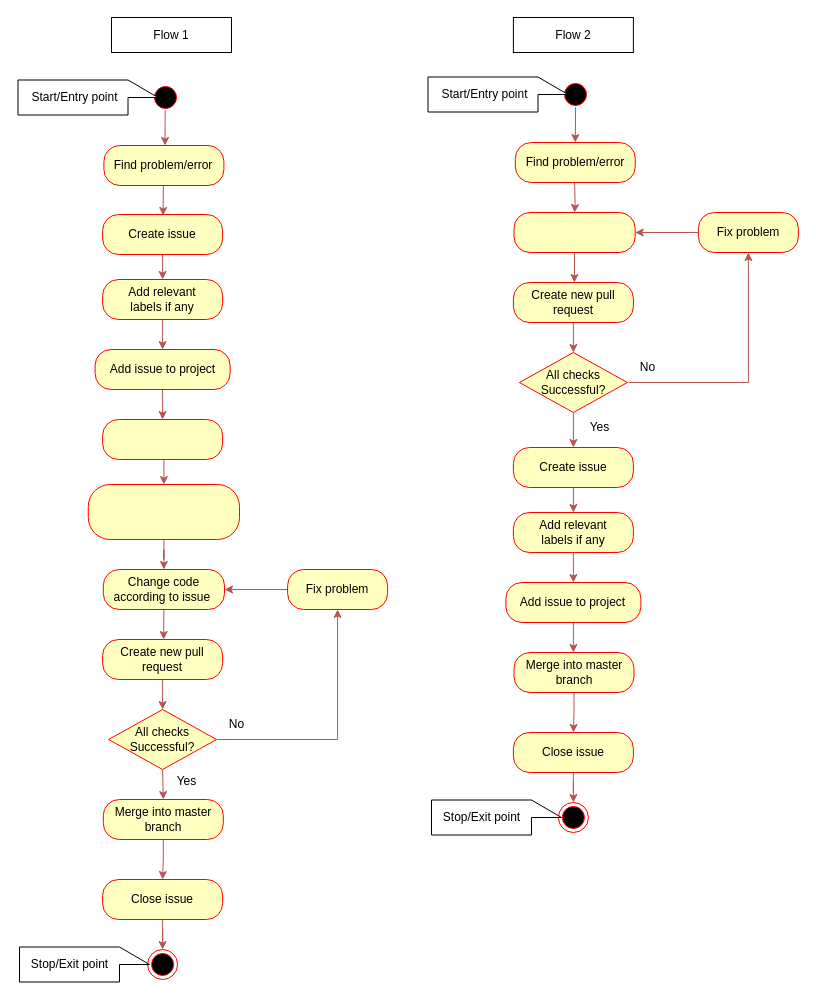
Some shapes in this 816 by 1000 pixel diagram are drawn without their labels. The shapes that lost their labels are listed below. From the top down, each one's centre as x and y in pixels, then its label:
At point 574,232: "Change code according to problem".
At point 162,439: "Set status to backlog".
At point 163,512: "Under development, set status e.g. in progress etc.".
